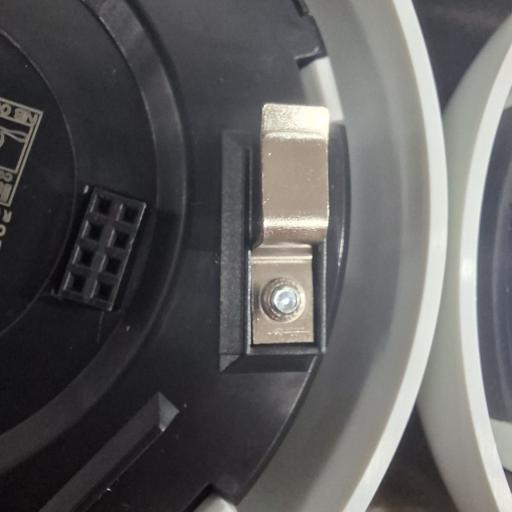yaysiz: (233, 95, 335, 348)
